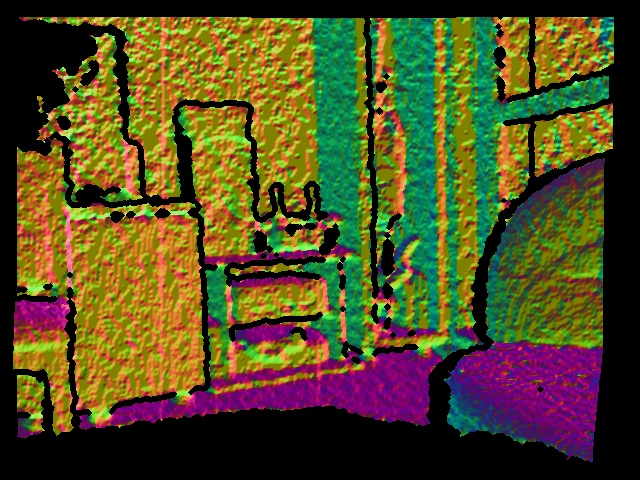station: (271, 184, 324, 240)
